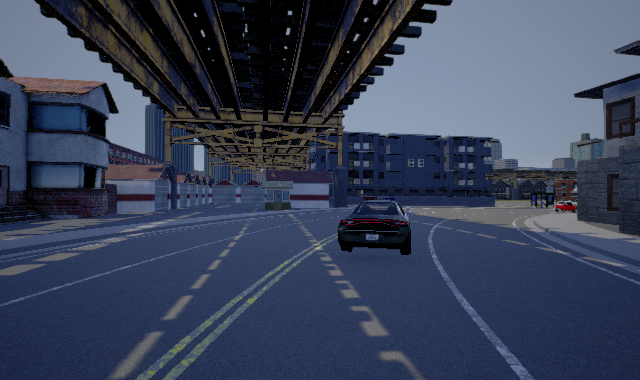vehicle: (337, 197, 413, 255), (555, 199, 578, 214)
